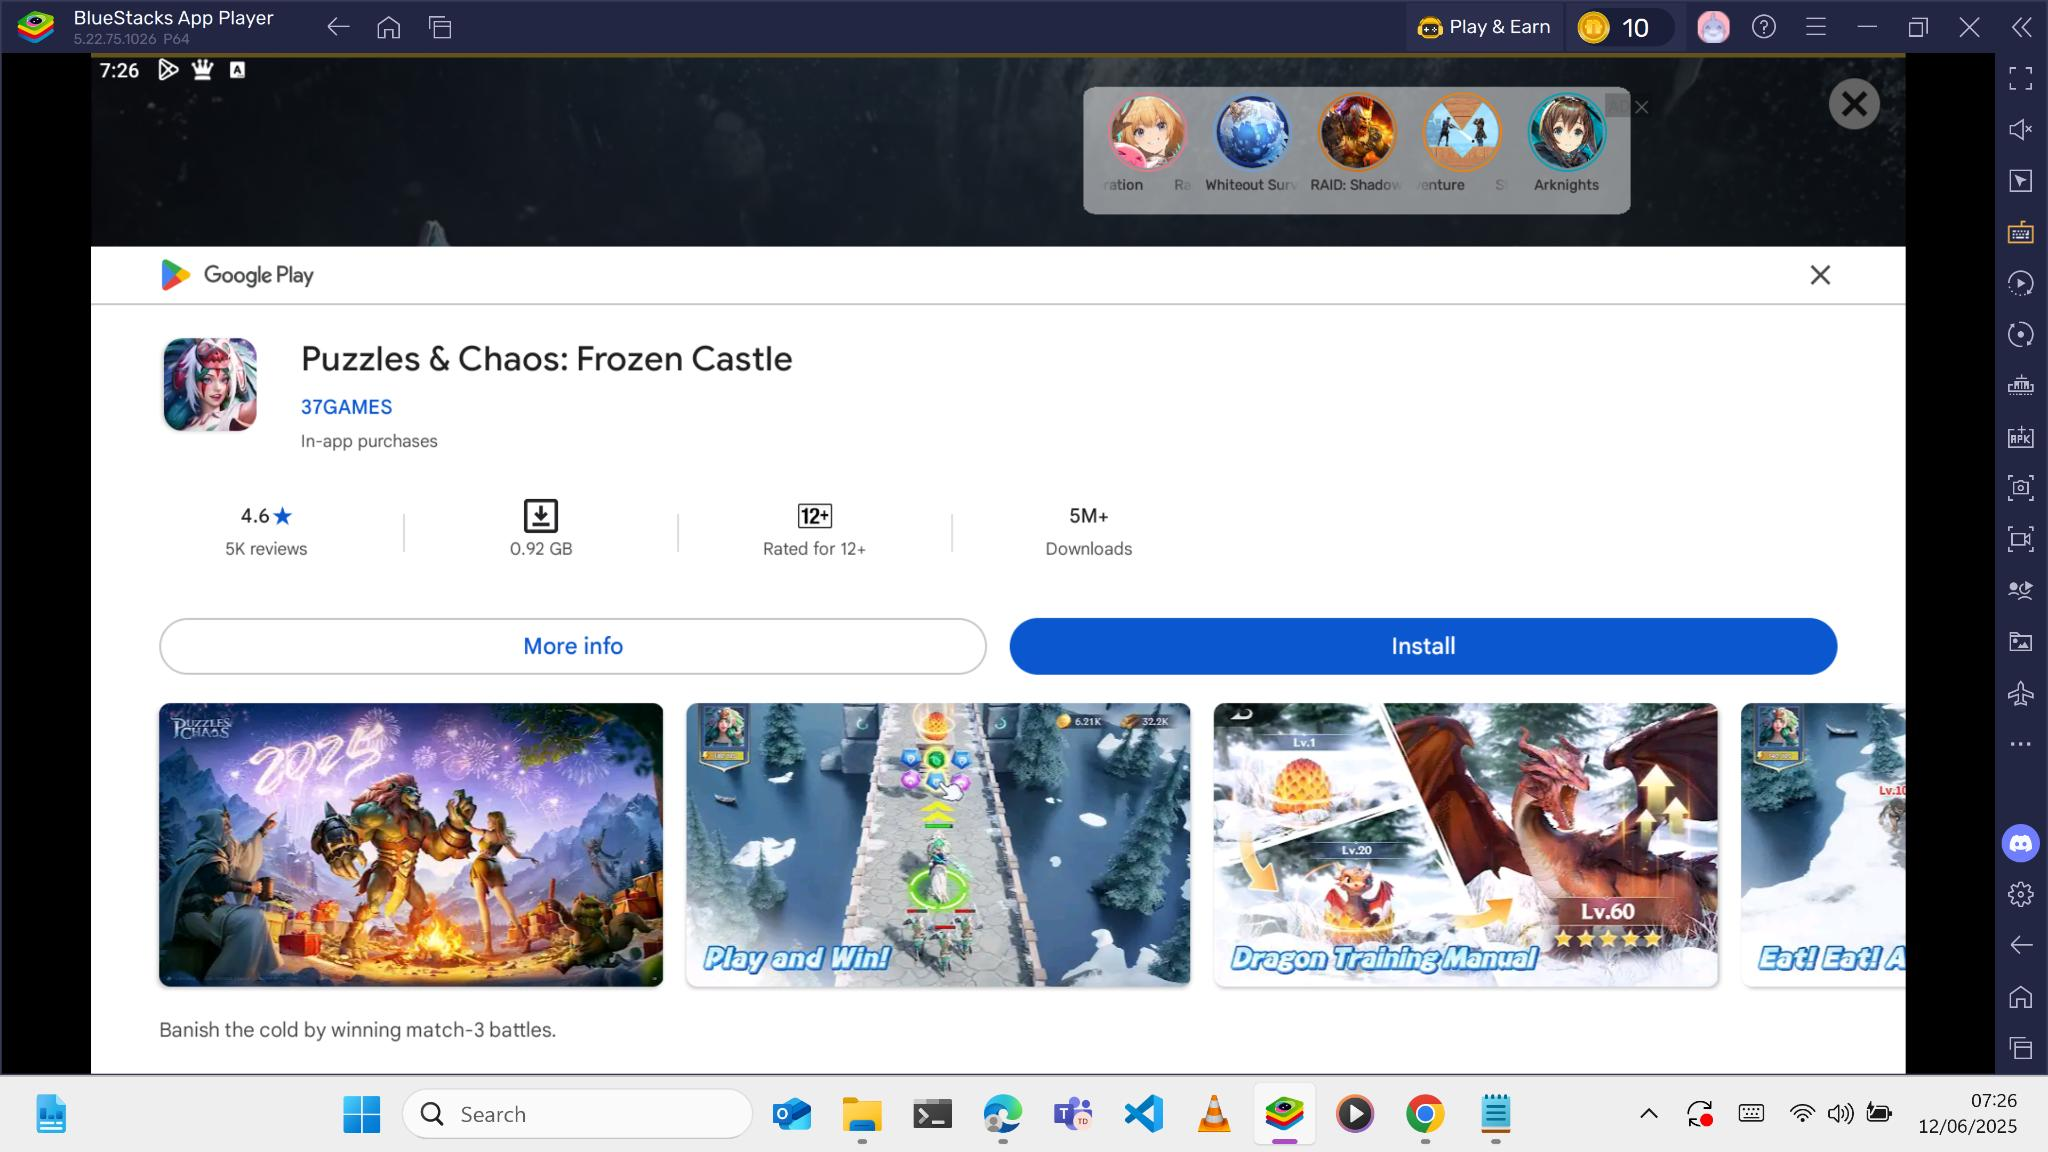close_ad: (1810, 263, 1831, 287)
